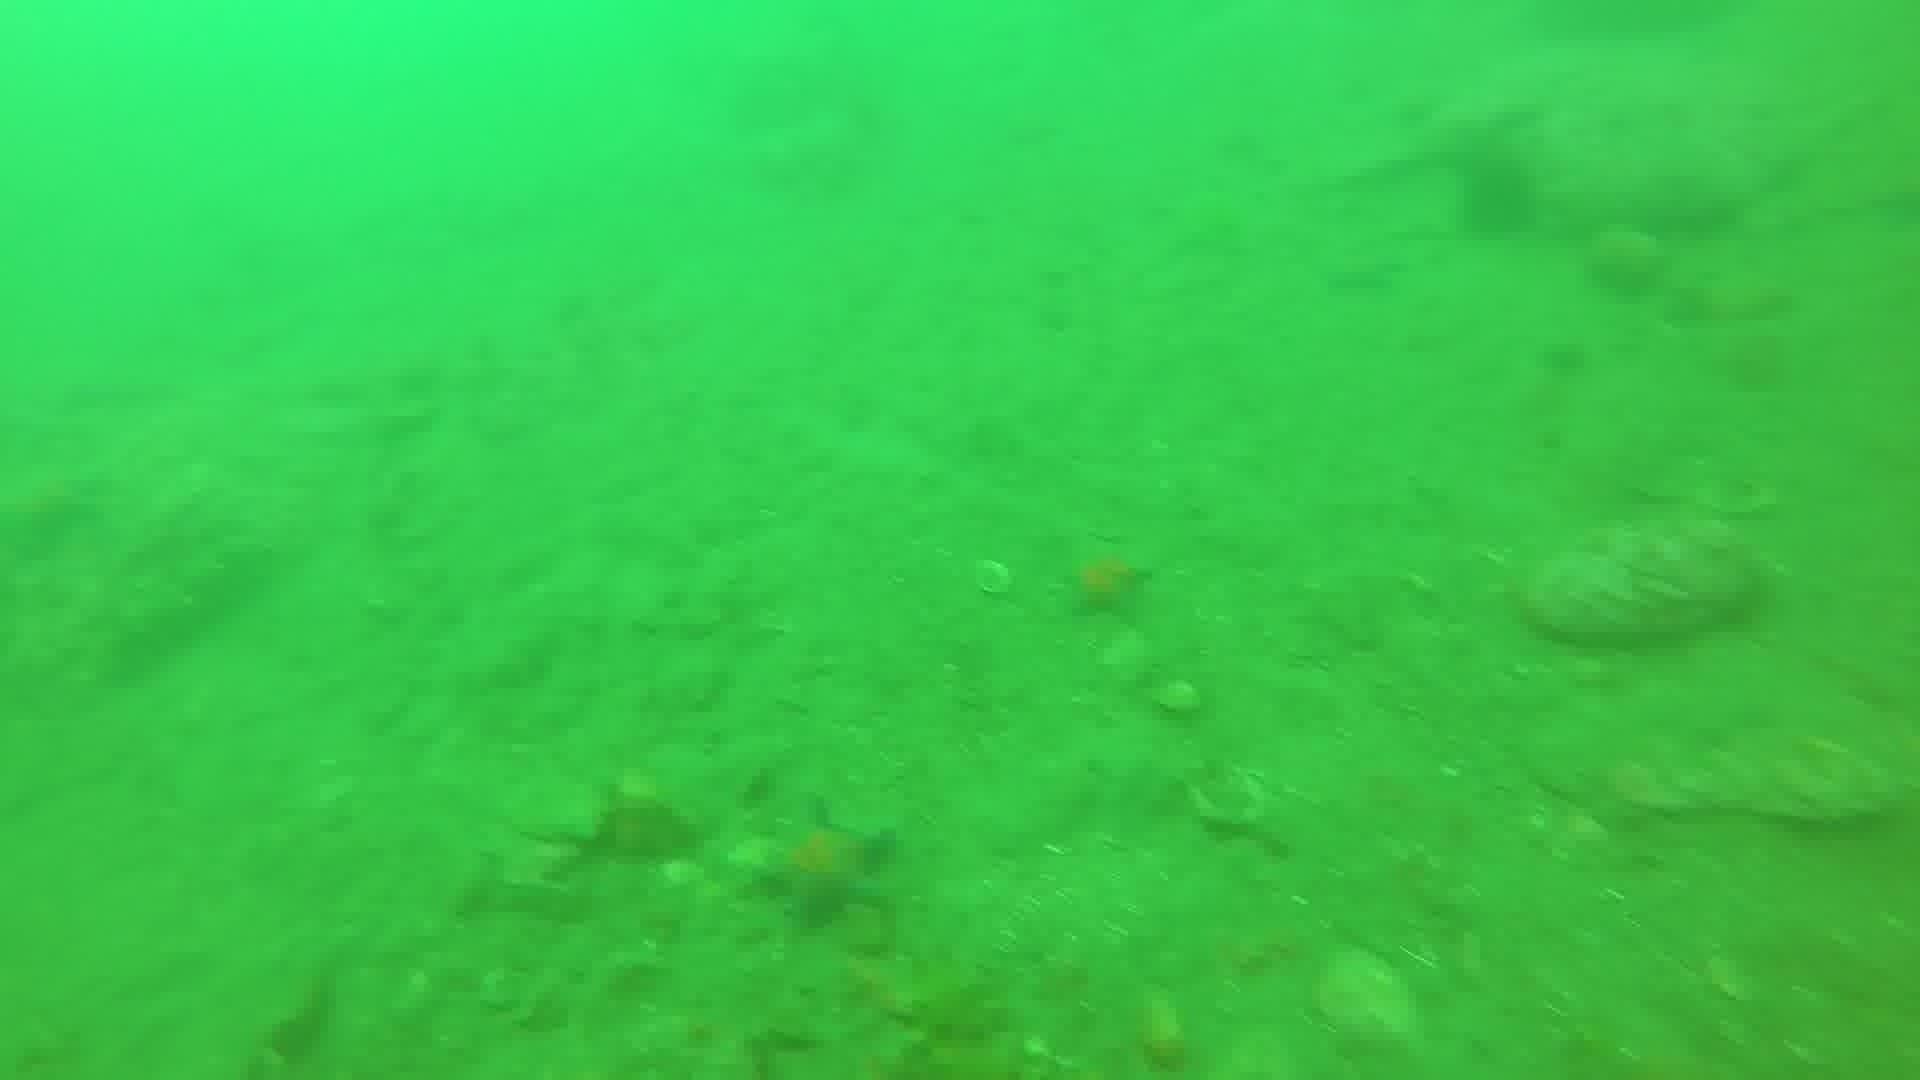echinus: (1453, 152, 1542, 243)
starfish: (746, 796, 899, 932), (3, 458, 112, 564), (1052, 535, 1156, 626)
